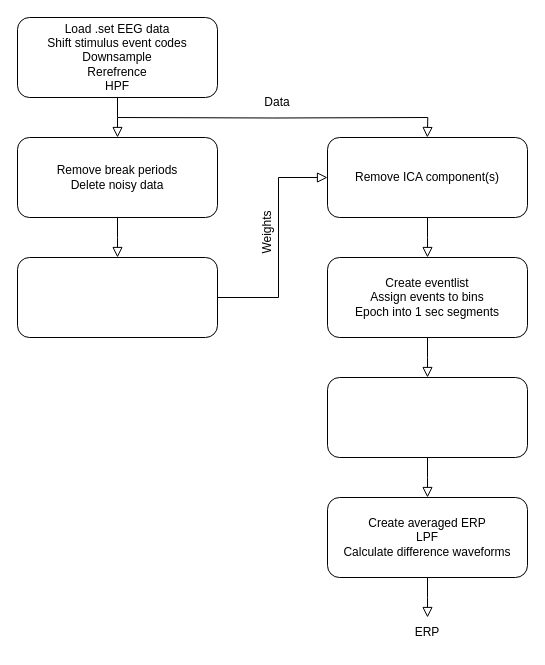
The diagram is 545 pixels wide and 665 high, and some of its shapes have lost their labels. The shapes that lost their labels are listed below. From the top down, each one's centre as x and y in pixels, then its label:
pixel 117 297: Compute ICA weights Transfer weights
pixel 427 417: Interpolate channels (if any) Artifact rejection
